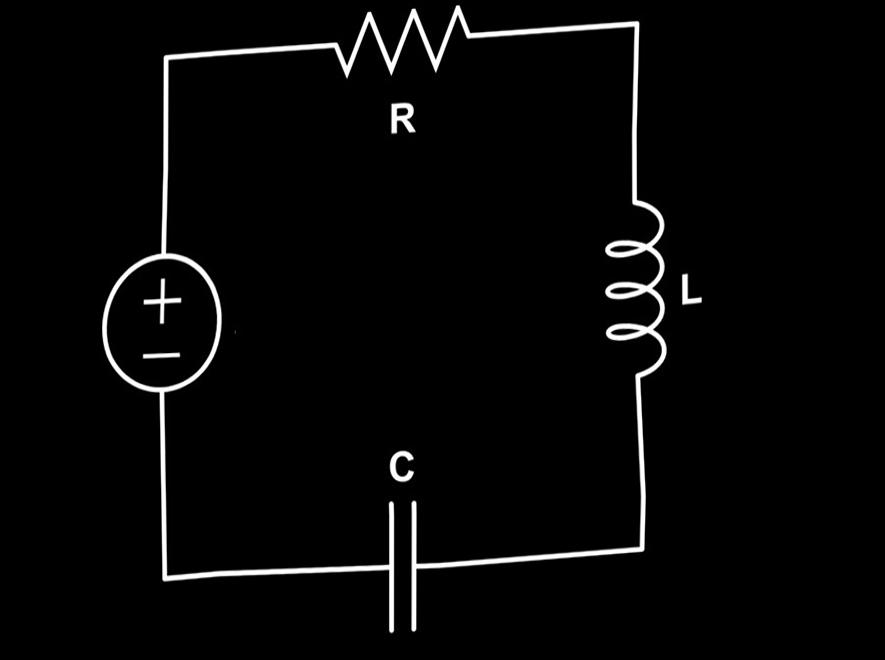Battery: (63, 225, 238, 428)
